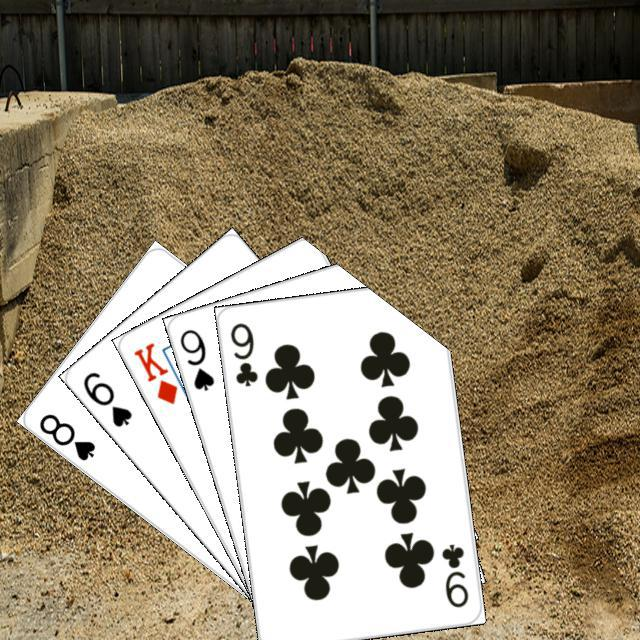6s: (78, 366, 134, 430)
8s: (34, 408, 97, 463)
9c: (225, 318, 260, 388), (436, 539, 470, 609)
9s: (174, 324, 216, 393)
Kd: (128, 337, 180, 406)
